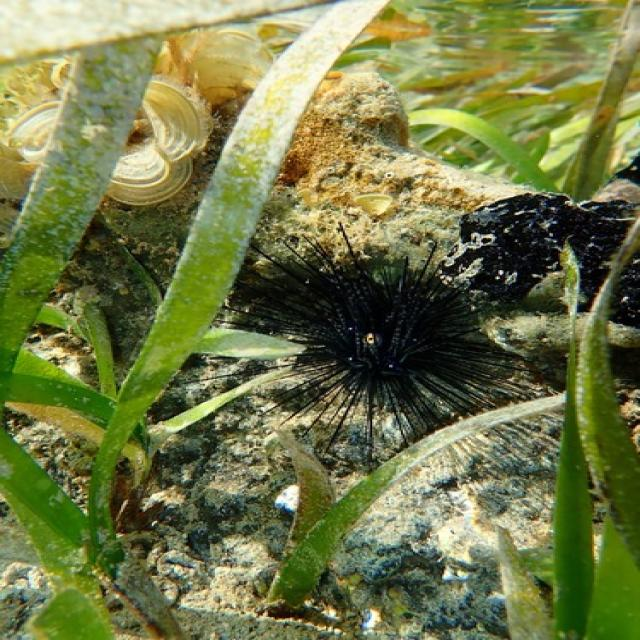Urchin: (179, 218, 543, 470)
